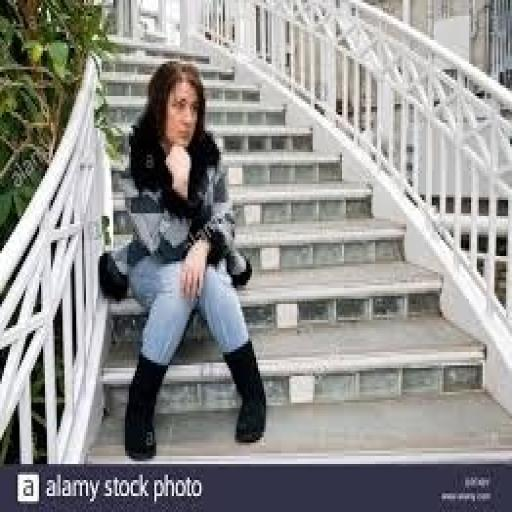sitting: (100, 56, 270, 461)
